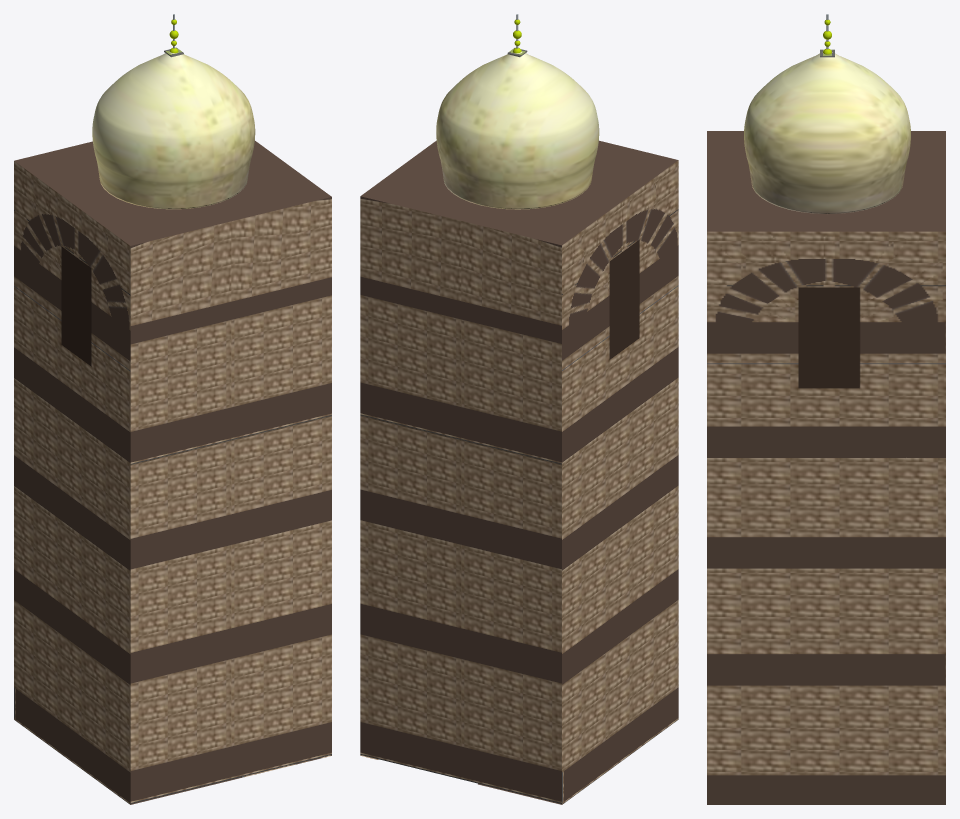
Rendered from Persian_wall_tower.fbx.
The picture shows the model from 3 angles, left to right: view 1: azimuth 30°, elevation 25°; view 2: azimuth 150°, elevation 25°; view 3: azimuth 270°, elevation 25°; orthographic projection. The views are drawn at different scales.
Parts seen in each view (by area): view 1: Cube_000, cupula2_000; view 2: Cube_000, cupula2_000; view 3: Cube_000, cupula2_000.
Part boxes in pixels (box(x1,y1,x2,y2)): Cube_000: box(14, 140, 331, 804); cupula2_000: box(92, 14, 255, 209); Cube_000: box(360, 140, 678, 804); cupula2_000: box(436, 14, 599, 209); Cube_000: box(707, 131, 945, 804); cupula2_000: box(744, 14, 910, 214).
Size of the model in its own units: 2.64 by 9.05 by 2.64.
